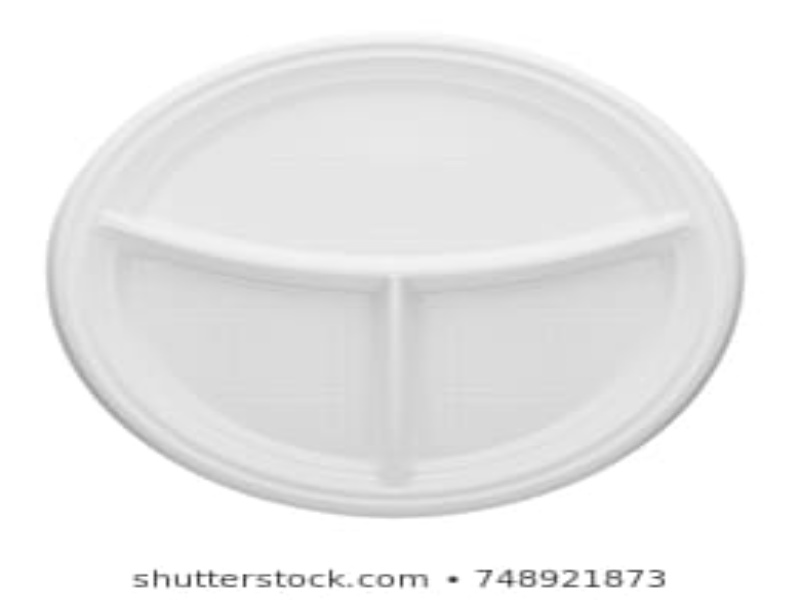plastic-plate: (40, 34, 746, 520)
